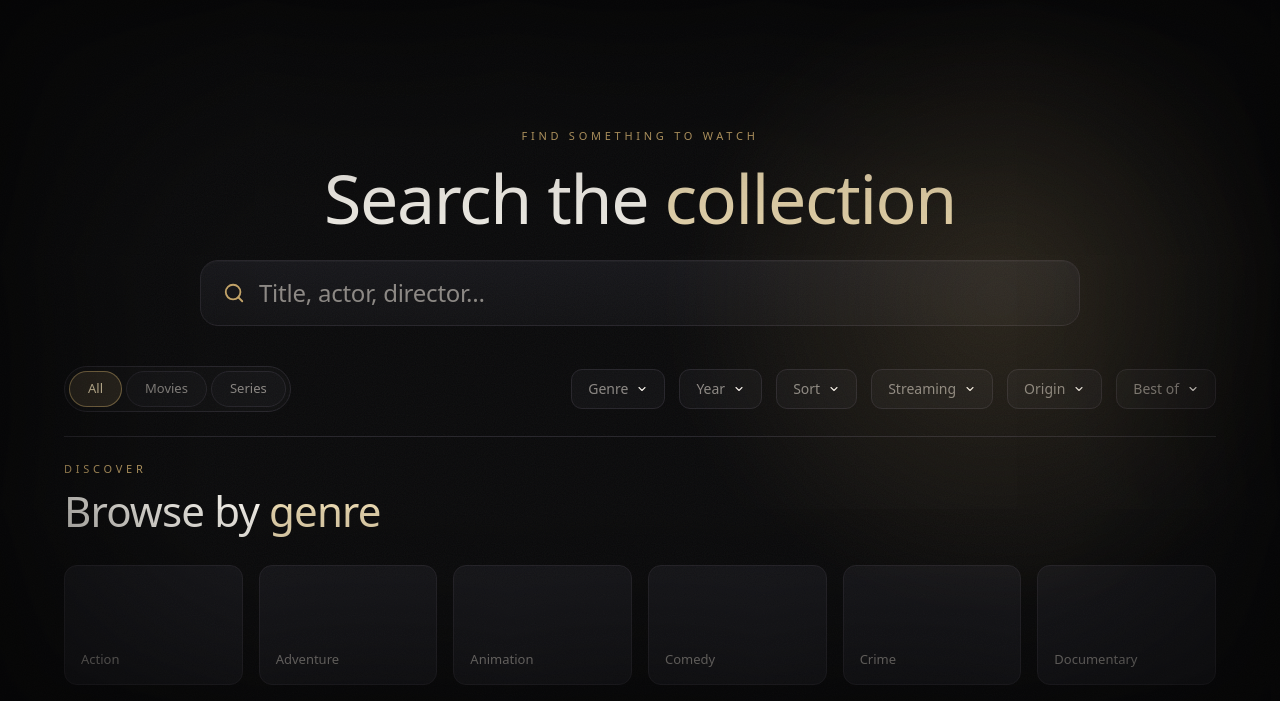
SearchView › search hero › clears the input when the clear button is clicked
The width and height of the screenshot is (1280, 701).
Type "blade" into the search field at (658, 293), box [259,277,1057,309]
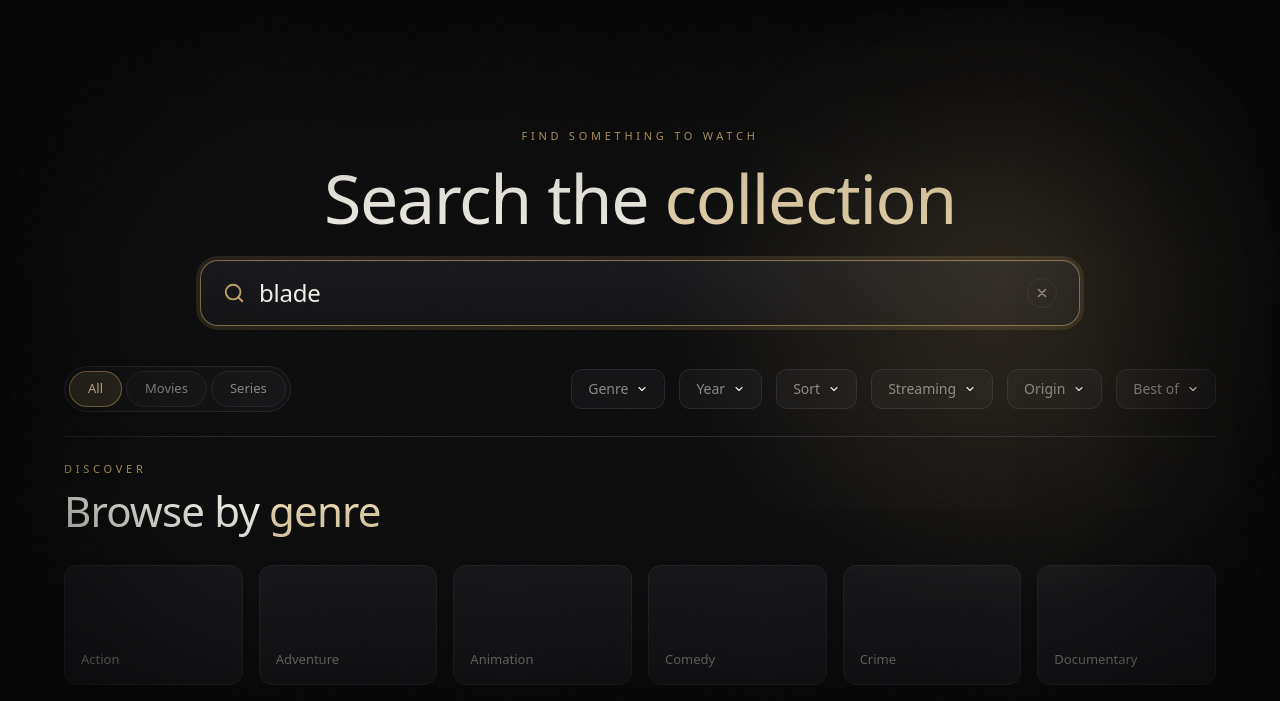
Click the button named "Clear search" at (1042, 293), box [1027,278,1057,308]
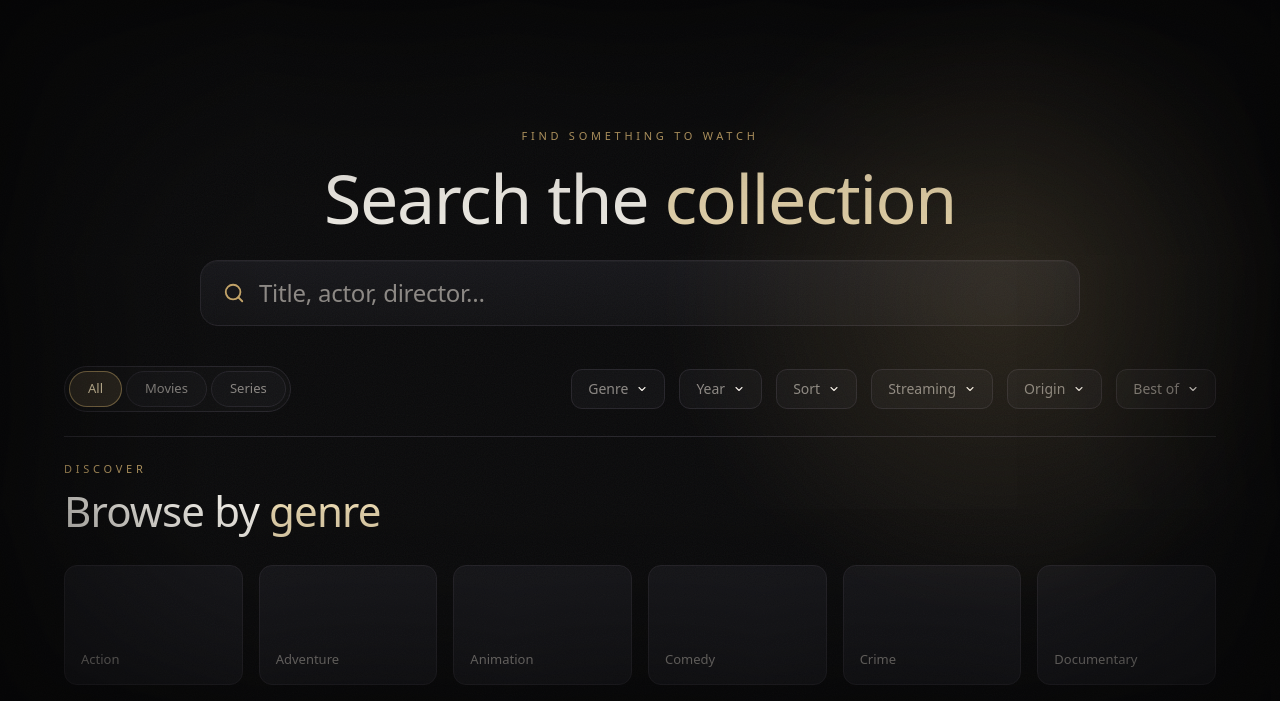
Now the search field is empty, box [259,277,1057,309]
